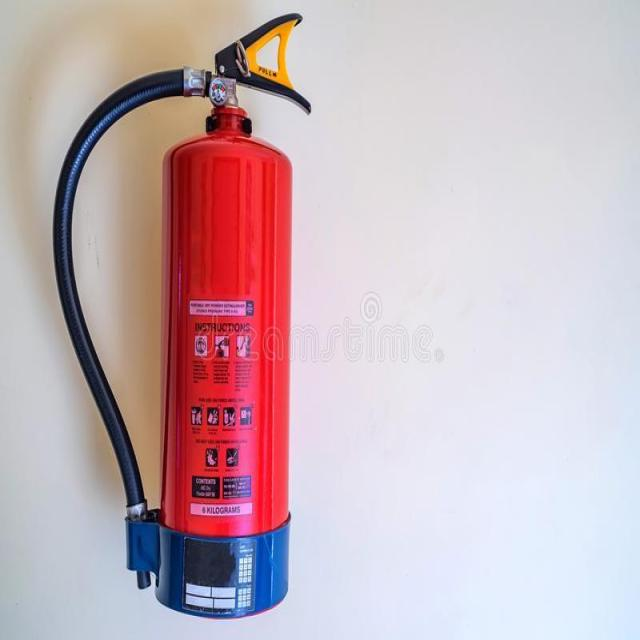fire_extinguisher: (50, 6, 312, 624)
